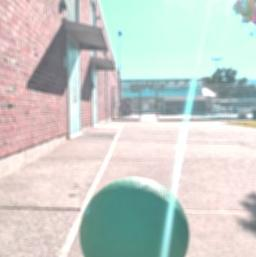algae: (86, 179, 187, 257)
